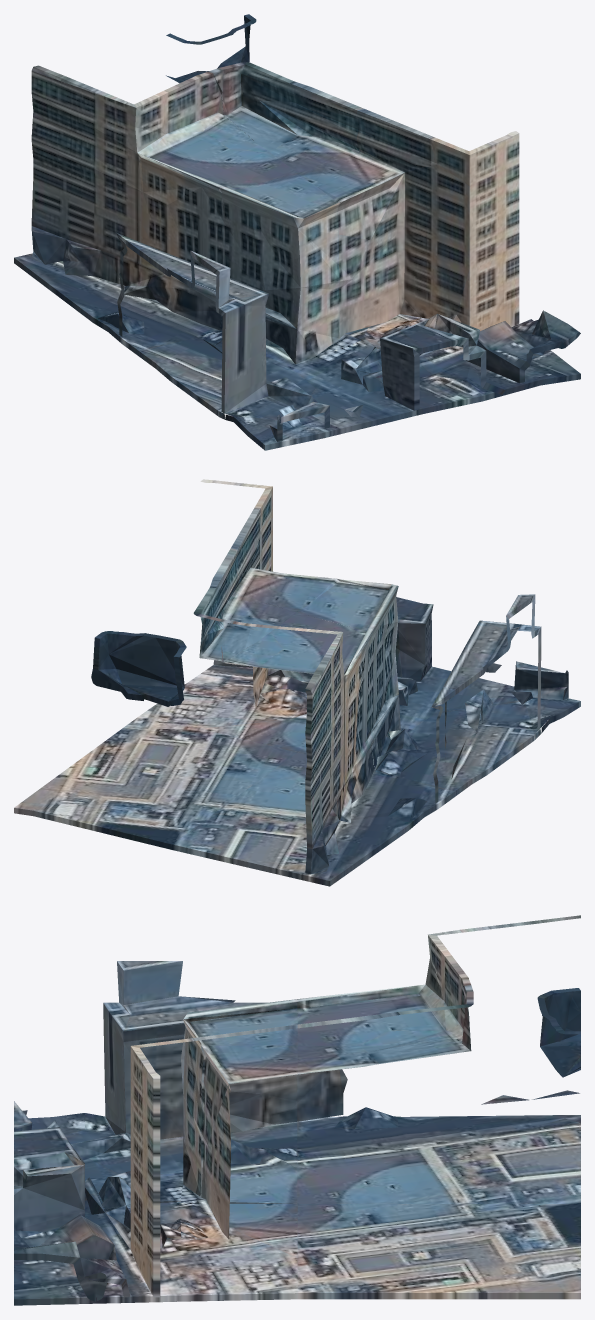
Rendered from chunk_6_-3.glb.
3 renders of one model, top to bottom at view 1: azimuth 30°, elevation 25°; view 2: azimuth 150°, elevation 25°; view 3: azimuth 270°, elevation 25°, orthographic. The views are drawn at different scales.
Visible parts, largest first — view 1: hero-chunk; view 2: hero-chunk; view 3: hero-chunk.
Boxes of the visible parts, x1,y1,x2,y2 form: hero-chunk: (14, 14, 580, 450); hero-chunk: (14, 479, 580, 886); hero-chunk: (14, 915, 580, 1305).
Size of the model in its own units: 55.43 by 33.72 by 76.32.
Materials: 2 (2 with a texture image).
